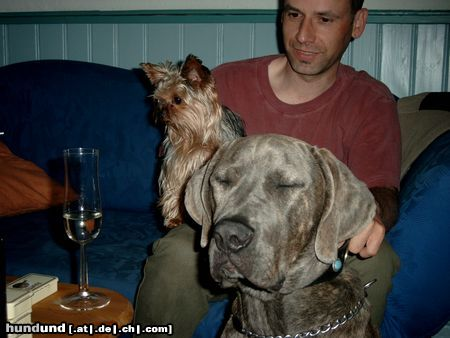fila_brasileiro: (184, 133, 377, 336)
human_face: (283, 0, 368, 75)
other_dog_breed: (139, 53, 248, 229)
person: (130, 0, 402, 338)
